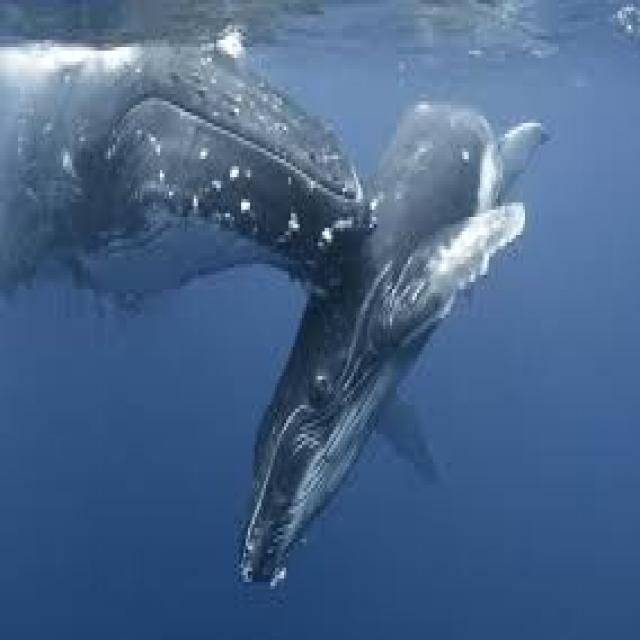blue_whale: (180, 18, 546, 618), (0, 22, 417, 444)
